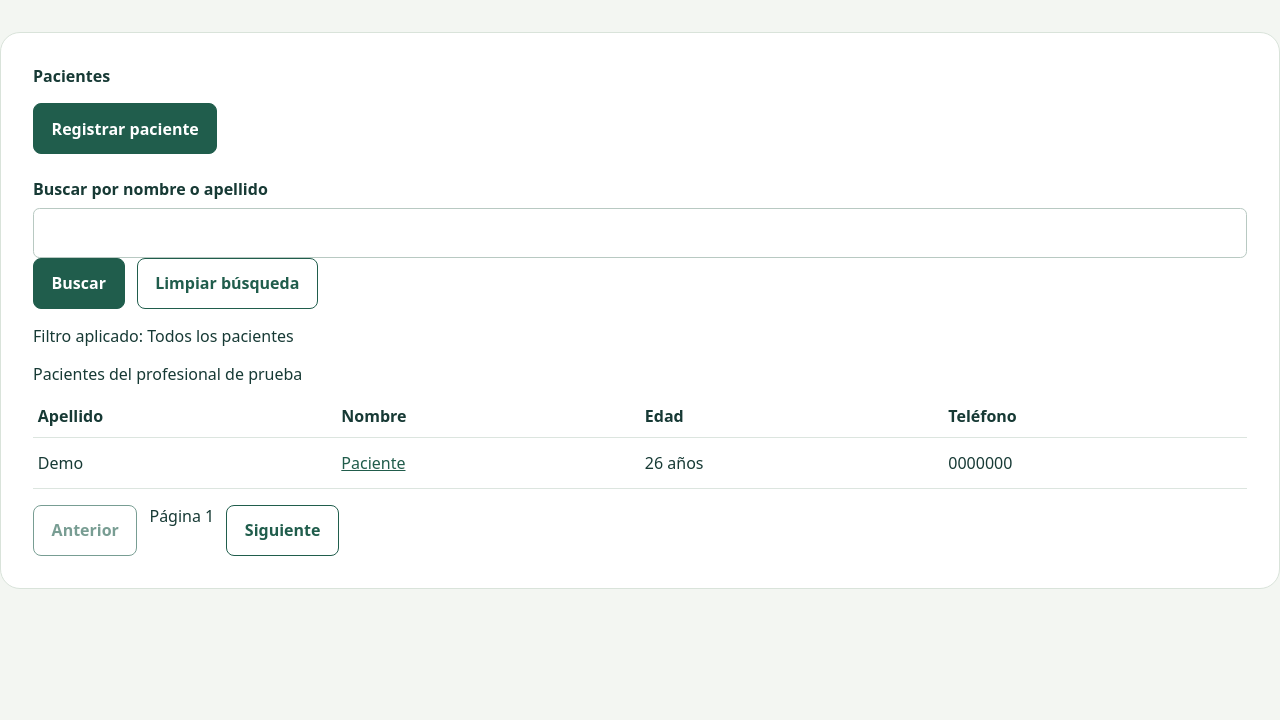
Test: cancelar y guardar regresan al listado actualizado sin perder filtro
Check: the text "Demo" is shown, box [33,438,336,488]
Click the button "Registrar paciente": (125, 129) [33,103,217,154]
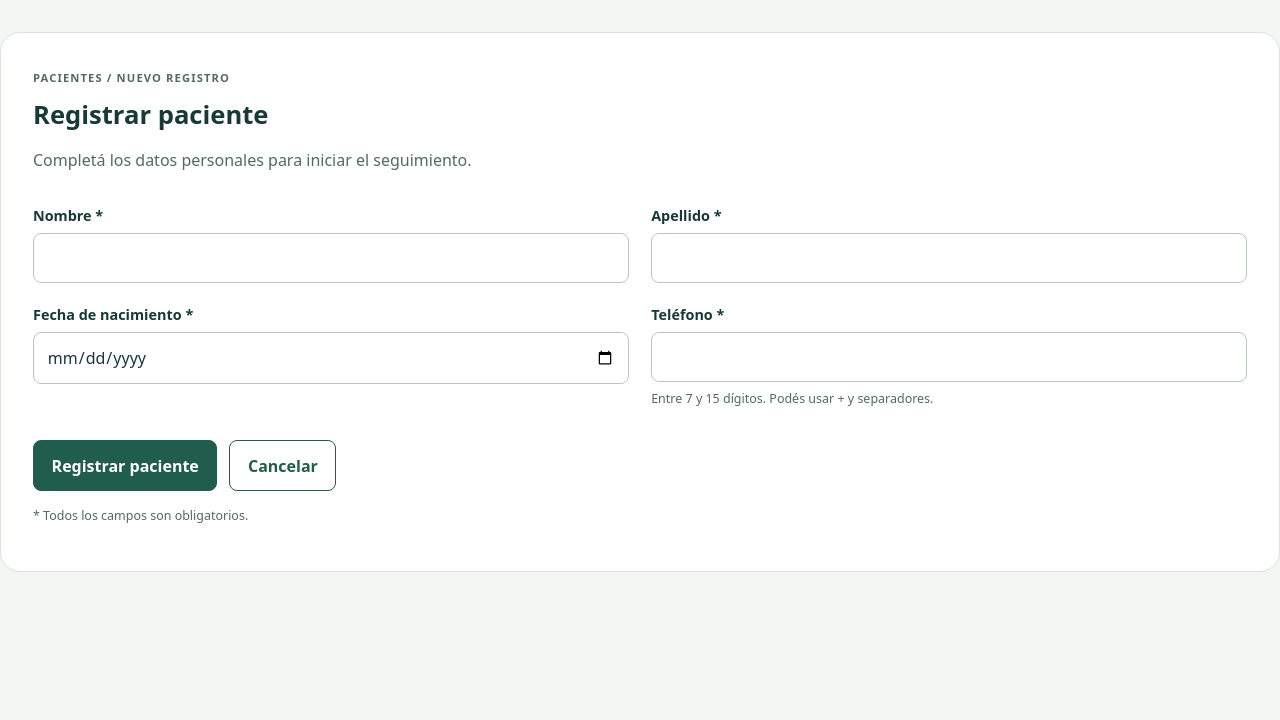
Click the button "Cancelar": (283, 466) [229,440,336,492]
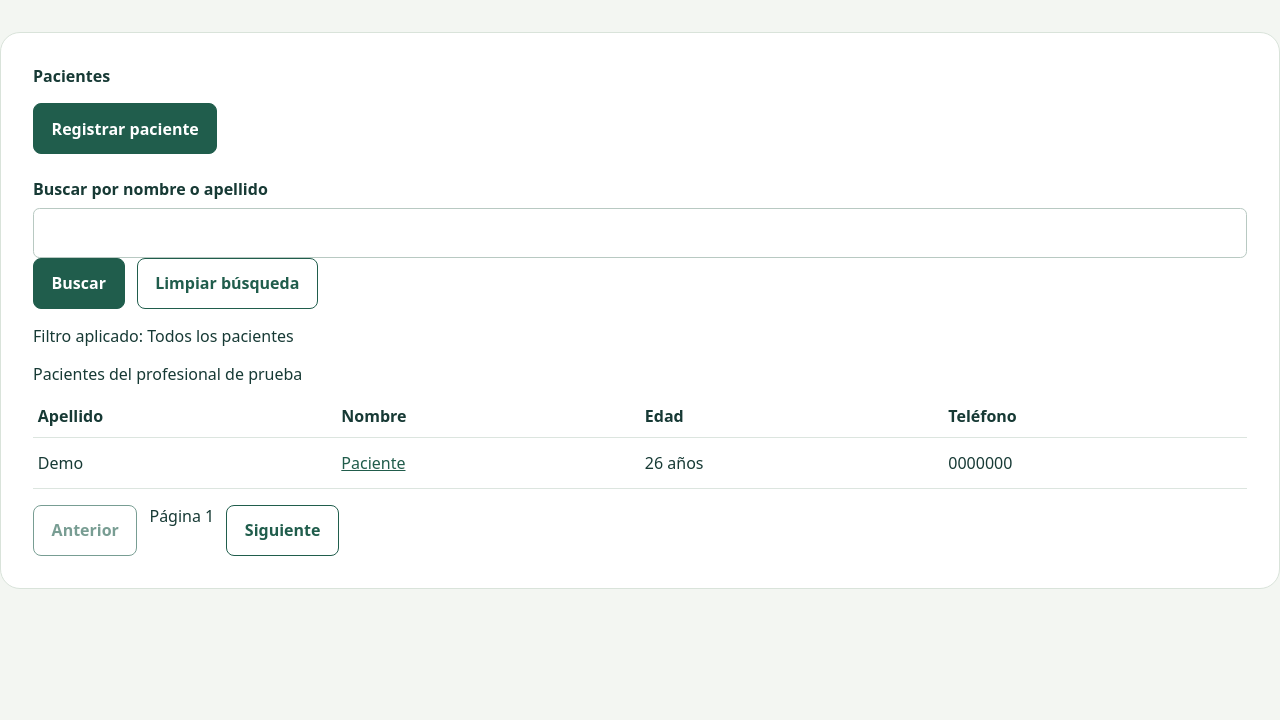
Check: the text "Demo" is shown, box [33,438,336,488]
Click the button "Registrar paciente": (125, 129) [33,103,217,154]
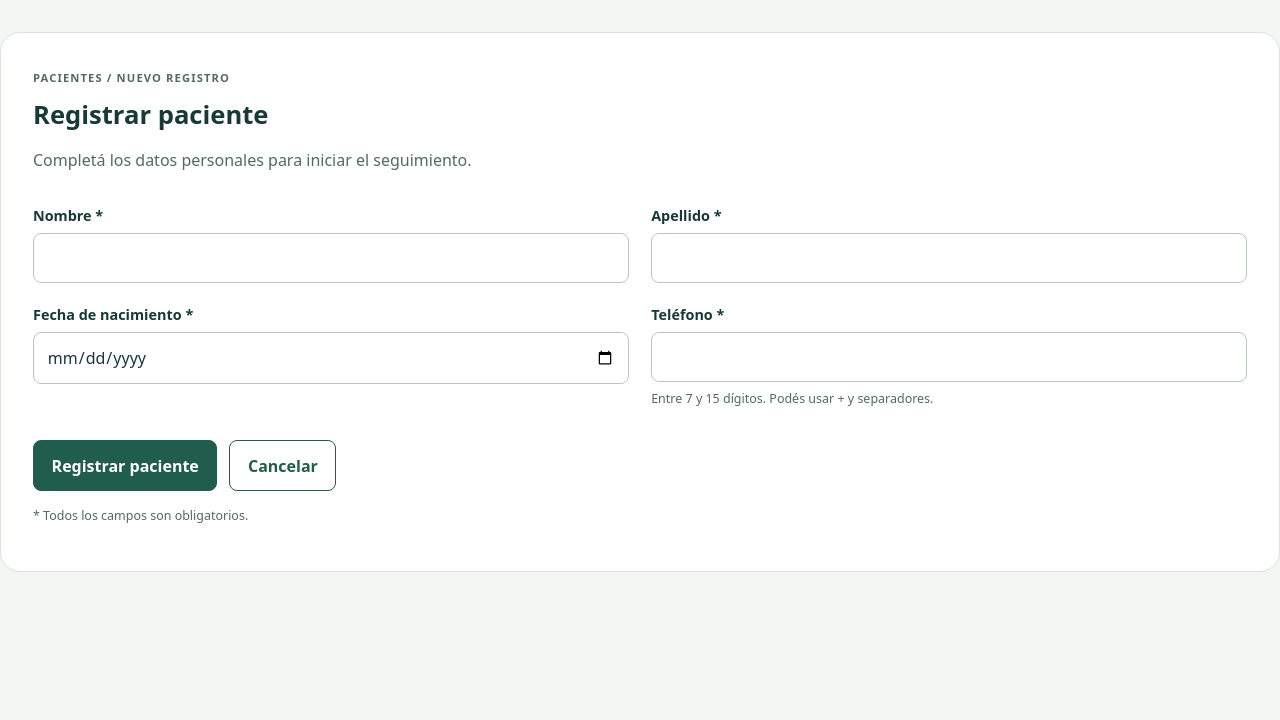
In the field labelled "Nombre": (331, 258) [33,233,629,283], type "Demo"
In the field labelled "Apellido": (949, 258) [651,233,1247,283], type "Paciente"
In the date field labelled "Fecha de nacimiento": (331, 358) [33,332,629,384], type "2000-01-01"
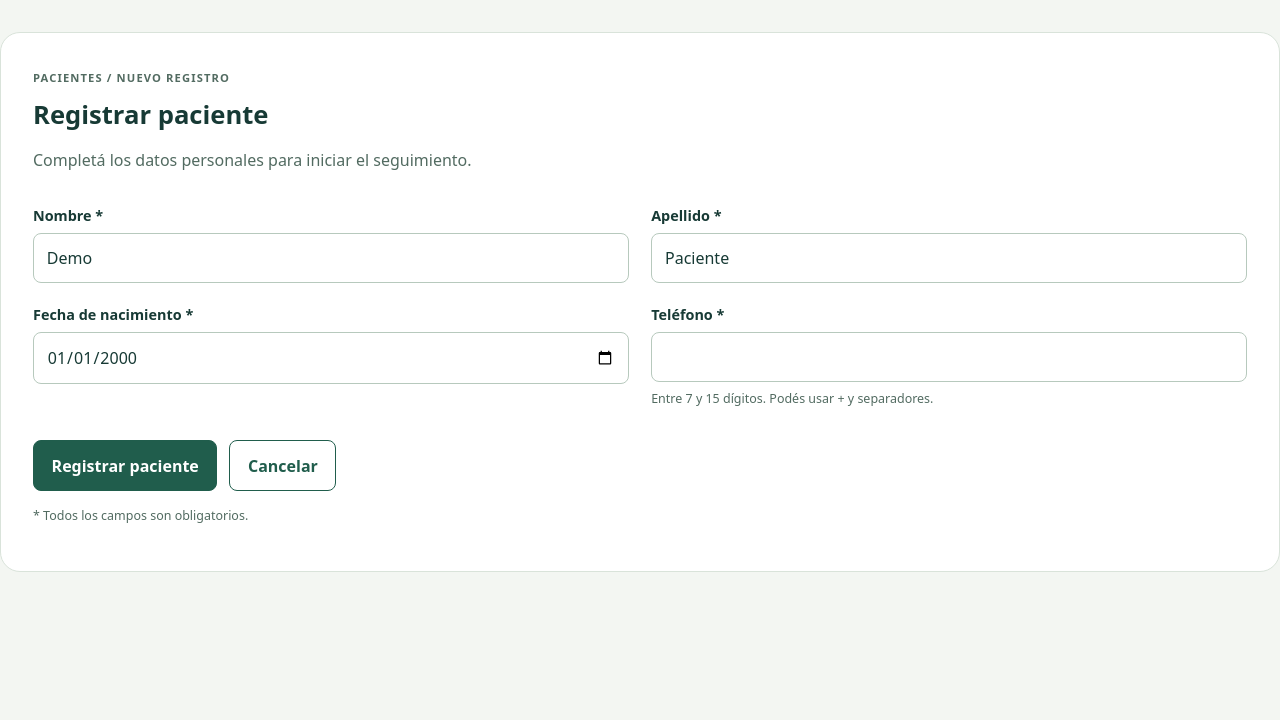
In the field labelled "Teléfono": (949, 357) [651,332,1247,382], type "0000000"
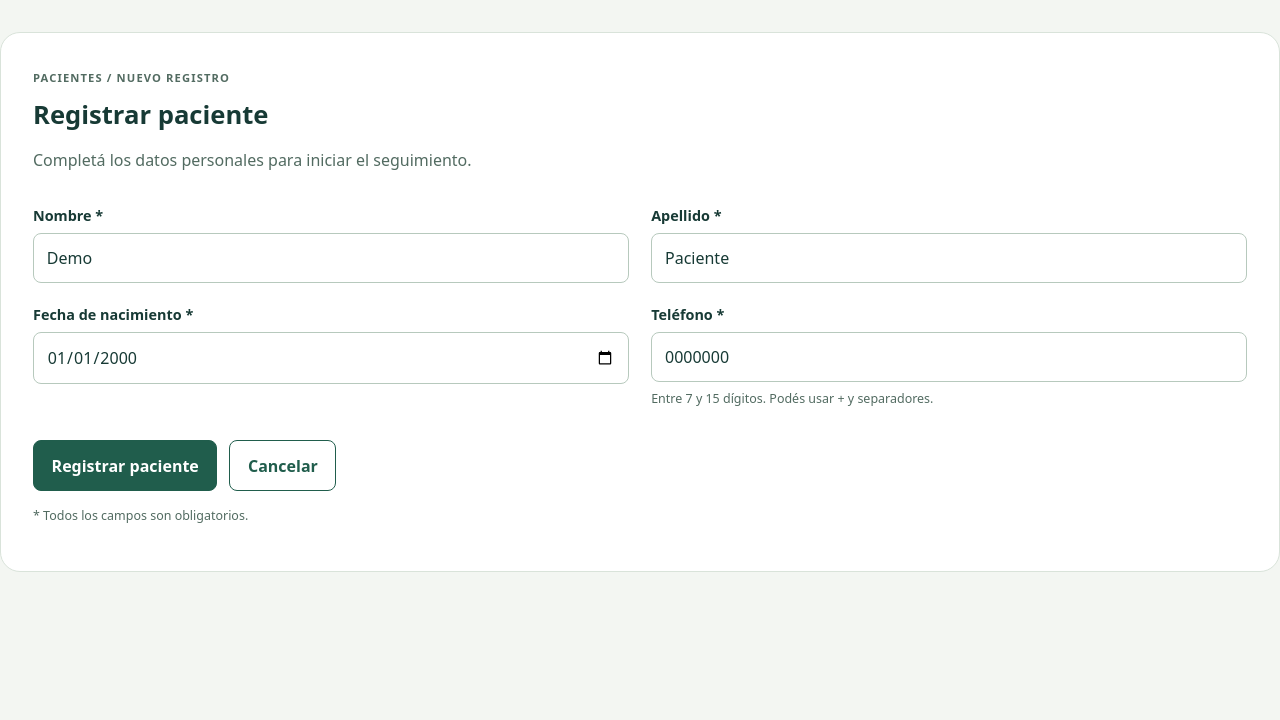
Click the button "Registrar paciente": (125, 466) [33,440,217,492]
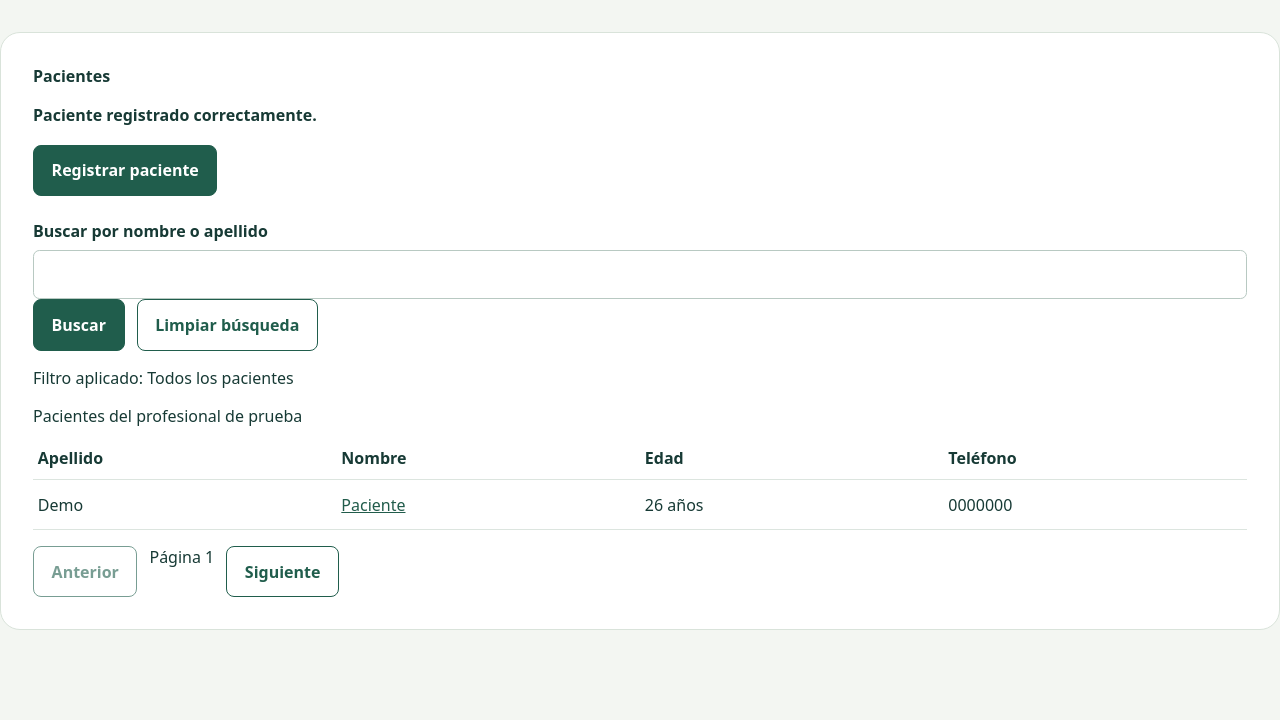
Check: the text "Paciente registrado correctamente." is shown, box [33,104,317,126]
Check: the text "Demo" is shown, box [33,479,336,530]
